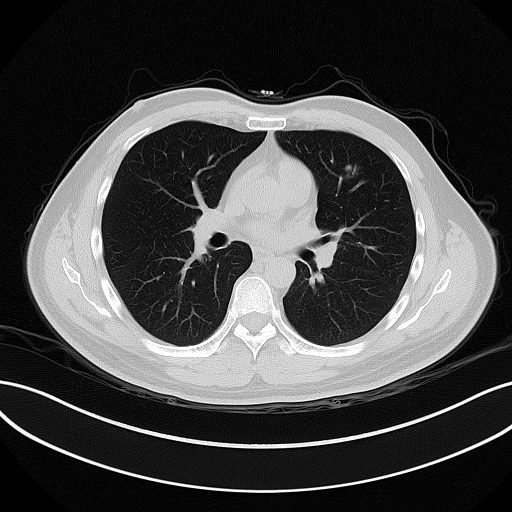nodule: (344, 164, 357, 176)
